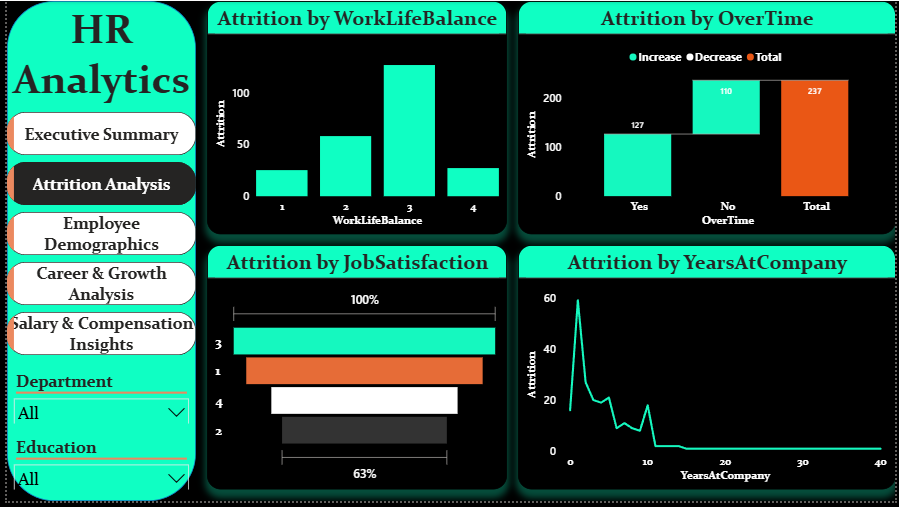

The page's visual inventory and layout, read from the dashboard file:
{"tool":"powerbi","page":{"name":"Attrition Analysis","canvas":[1280,720],"ordinal":1},"visuals":[{"type":"group","id":"g1","title":"Group 1","box":[0,0,272,720],"z":0},{"type":"shape","box":[0,0,272,720],"z":0,"group":"g1"},{"type":"textbox","box":[0,0,272,160],"z":1000,"group":"g1"},{"type":"clusteredColumnChart","title":"Attrition by WorkLifeBalance","fields":{"Y":["HR-Employee-Attrition (1).Attrition count"],"Category":["HR-Employee-Attrition (1).WorkLifeBalance"]},"box":[288,0,432,336],"z":1000},{"type":"waterfallChart","title":"Attrition by OverTime","fields":{"Category":["HR-Employee-Attrition (1).OverTime"],"Y":["HR-Employee-Attrition (1).Attrition count"]},"box":[736,0,544,336],"z":2000},{"type":"pageNavigator","box":[0,160,272,352],"z":2000,"group":"g1"},{"type":"funnel","title":"Attrition by JobSatisfaction","fields":{"Category":["HR-Employee-Attrition (1).JobSatisfaction"],"Y":["HR-Employee-Attrition (1).Attrition count"]},"box":[288,352,432,352],"z":3000},{"type":"slicer","fields":{"Values":["HR-Employee-Attrition (1).Department"]},"box":[0,528,272,80],"z":3000,"group":"g1"},{"type":"lineChart","title":"Attrition by YearsAtCompany","fields":{"Category":["HR-Employee-Attrition (1).YearsAtCompany"],"Y":["HR-Employee-Attrition (1).Attrition count"]},"box":[736,352,544,352],"z":4000},{"type":"slicer","fields":{"Values":["HR-Employee-Attrition (1).Education"]},"box":[0,624,272,80],"z":4000,"group":"g1"}]}

Visuals, with their boxes in screenshot pixels (x1, y1, x2, y2), scaled from the page's 1280x720 canvas onto the 899x507 screenshot:
"Group 1" group: (0, 0, 191, 506)
shape: (0, 0, 191, 506)
textbox: (0, 0, 191, 113)
"Attrition by WorkLifeBalance" clusteredColumnChart: (202, 0, 506, 237)
"Attrition by OverTime" waterfallChart: (517, 0, 898, 237)
pageNavigator: (0, 113, 191, 361)
"Attrition by JobSatisfaction" funnel: (202, 248, 506, 496)
slicer - HR-Employee-Attrition (1).Department: (0, 372, 191, 428)
"Attrition by YearsAtCompany" lineChart: (517, 248, 898, 496)
slicer - HR-Employee-Attrition (1).Education: (0, 439, 191, 496)
